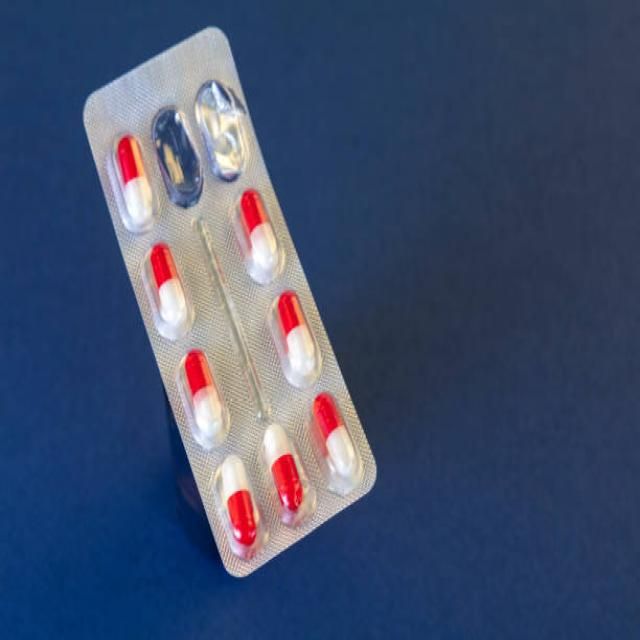Empty: (153, 96, 206, 218), (199, 72, 244, 188)
Pill: (304, 383, 360, 488), (142, 232, 192, 344), (258, 419, 312, 521), (106, 120, 155, 232), (179, 340, 227, 450), (235, 177, 282, 281), (269, 290, 319, 384), (216, 452, 259, 552)
